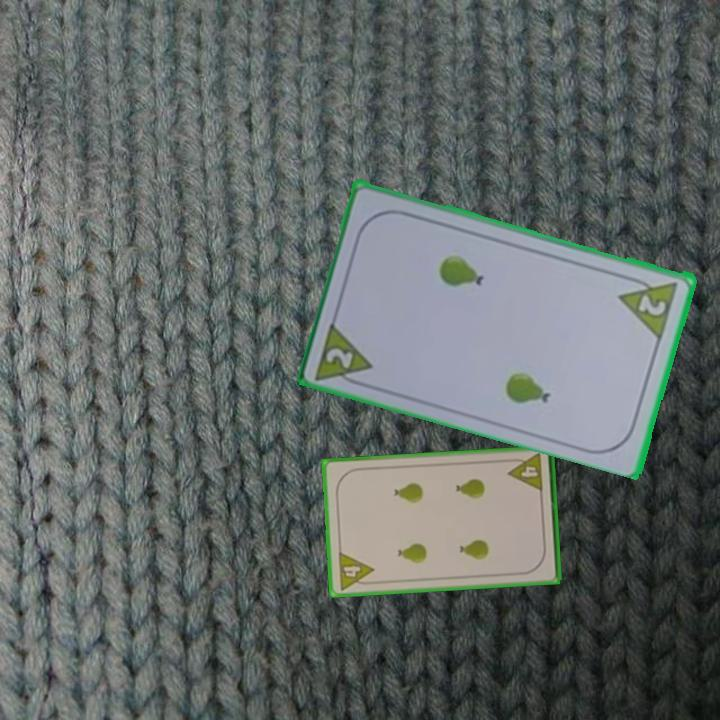2p: (312, 316, 378, 391), (635, 291, 670, 319)
4p: (335, 548, 377, 593), (505, 450, 546, 495)
